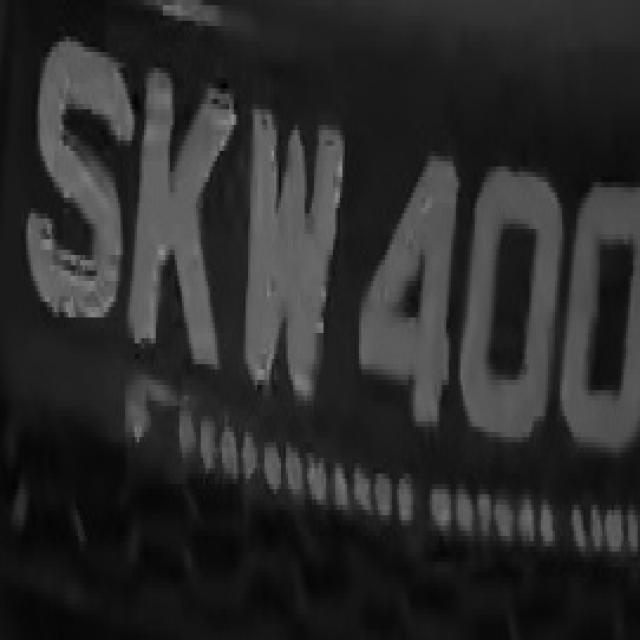0: (468, 156, 560, 479), (559, 146, 640, 484)
4: (354, 99, 463, 437)
K: (132, 57, 227, 390)
S: (21, 26, 128, 333)
W: (245, 73, 338, 442)
